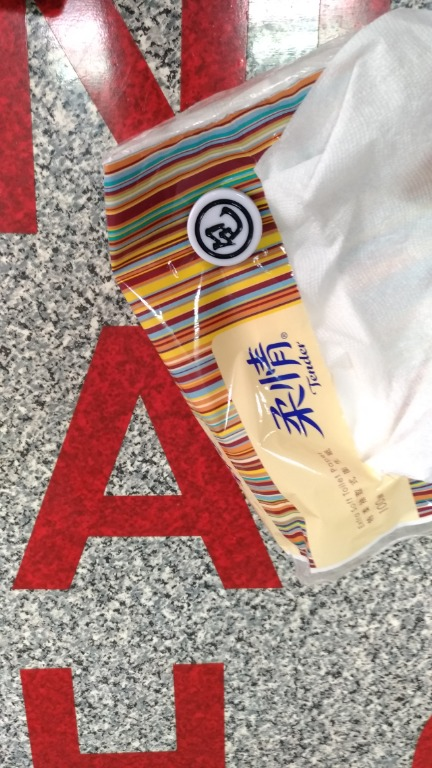b-cannon: (167, 176, 277, 275)
